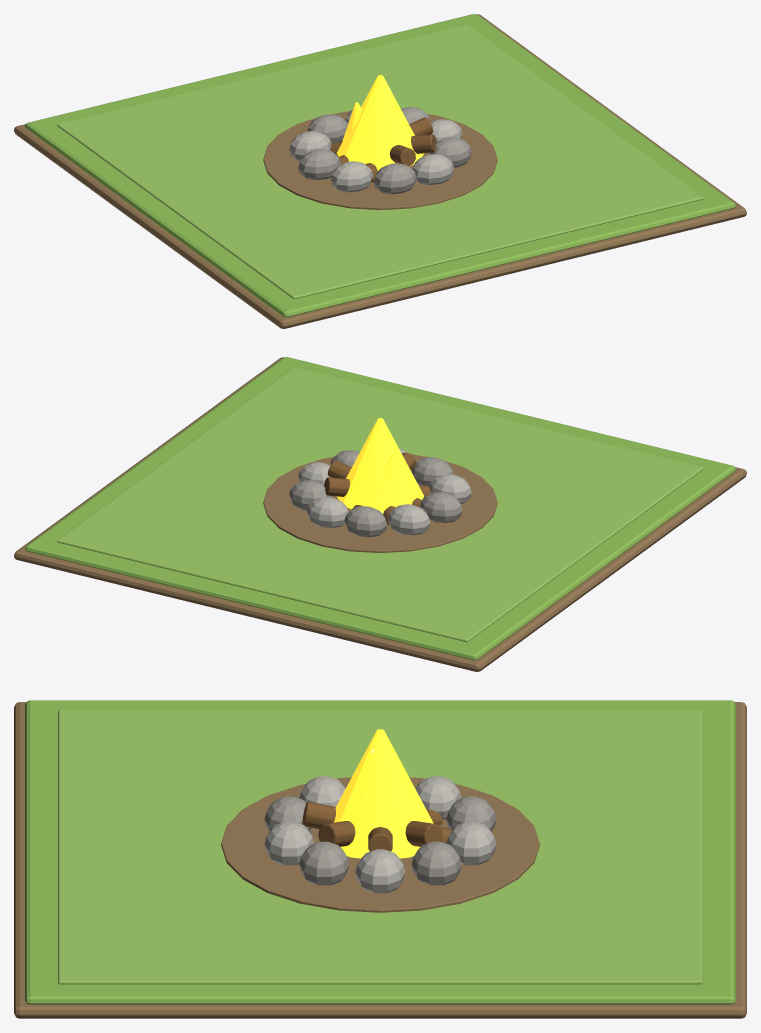
The model's file is army_camp_lv1.glb.
3 views of the same model, one above another, from view 1: azimuth 30°, elevation 25°; view 2: azimuth 150°, elevation 25°; view 3: azimuth 270°, elevation 25° (orthographic). The views are drawn at different scales.
Parts seen in each view (by area): view 1: Base_Inner, Base_Grass, Base_Dirt, CampDirtPatch, FlameOuter, FireStone_7, FireStone_6, FireStone_8, FireStone_5, FireStone_4, FireStone_9, FireStone_3 (+2 smaller); view 2: Base_Inner, Base_Grass, Base_Dirt, CampDirtPatch, FlameOuter, FireStone_3, FireStone_4, FireStone_2, FireStone_5, FlameSide1, FireStone_6, FireStone_1 (+3 smaller); view 3: Base_Inner, Base_Grass, Base_Dirt, CampDirtPatch, FlameOuter, FireStone_0, FireStone_1, FireStone_9, FireStone_2, FireStone_8, FireStone_4, FireStone_3 (+6 smaller).
Part boxes in pixels (x1,y1,x2,y2): Base_Inner: [57, 24, 703, 299]; Base_Grass: [25, 14, 735, 317]; Base_Dirt: [14, 14, 746, 328]; CampDirtPatch: [263, 111, 497, 209]; FlameOuter: [336, 75, 423, 170]; FireStone_7: [373, 163, 416, 194]; FireStone_6: [330, 161, 373, 192]; FireStone_8: [412, 154, 453, 185]; FireStone_5: [298, 149, 340, 180]; FireStone_4: [289, 131, 331, 160]; FireStone_9: [429, 137, 471, 167]; FireStone_3: [307, 114, 348, 142]; Base_Inner: [57, 367, 703, 642]; Base_Grass: [25, 357, 735, 660]; Base_Dirt: [14, 357, 746, 671]; CampDirtPatch: [263, 454, 497, 552]; FlameOuter: [337, 418, 424, 513]; FireStone_3: [344, 506, 387, 537]; FireStone_4: [387, 504, 430, 535]; FireStone_2: [307, 497, 348, 528]; FireStone_5: [420, 492, 462, 523]; FlameSide1: [372, 451, 400, 509]; FireStone_6: [429, 474, 471, 503]; FireStone_1: [289, 480, 331, 510]; Base_Inner: [58, 710, 702, 984]; Base_Grass: [25, 700, 735, 1004]; Base_Dirt: [14, 702, 746, 1018]; CampDirtPatch: [221, 777, 539, 912]; FlameOuter: [334, 729, 433, 858]; FireStone_0: [355, 849, 405, 893]; FireStone_1: [411, 841, 461, 885]; FireStone_9: [299, 841, 349, 885]; FireStone_2: [446, 821, 496, 865]; FireStone_8: [264, 821, 314, 865]; FireStone_4: [415, 776, 461, 819]; FireStone_3: [446, 796, 496, 831].
Size of the model in its own units: 3.68 by 0.75 by 3.68.
